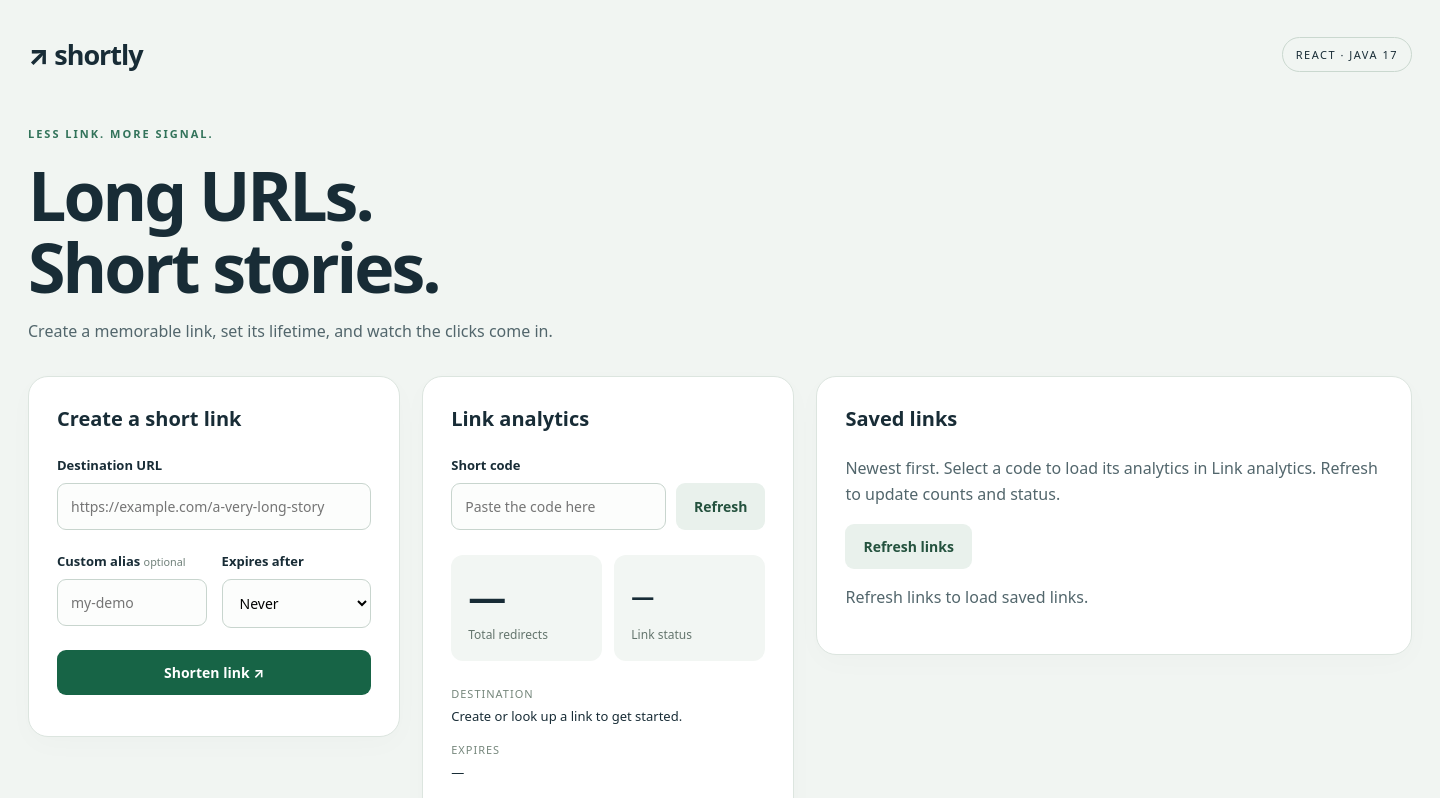
Test: Saved links › loads fresh metadata when selecting and reselecting the same code
The image size is (1440, 798).
Click the button "Refresh links".
click(909, 546)  # box left=845, top=524, right=972, bottom=568
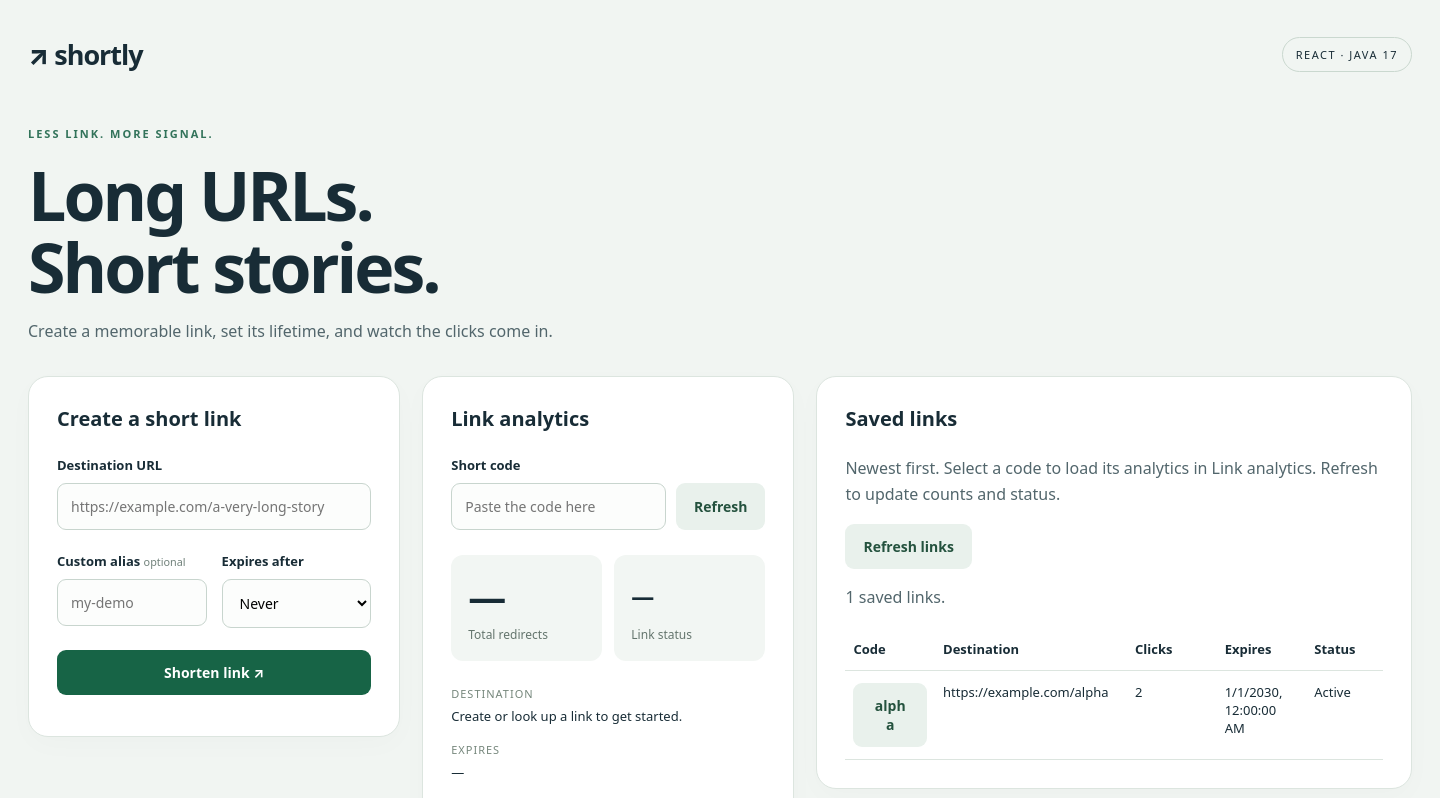
Click the button with aria-label "Inspect alpha".
click(890, 715)  # box left=853, top=683, right=927, bottom=747
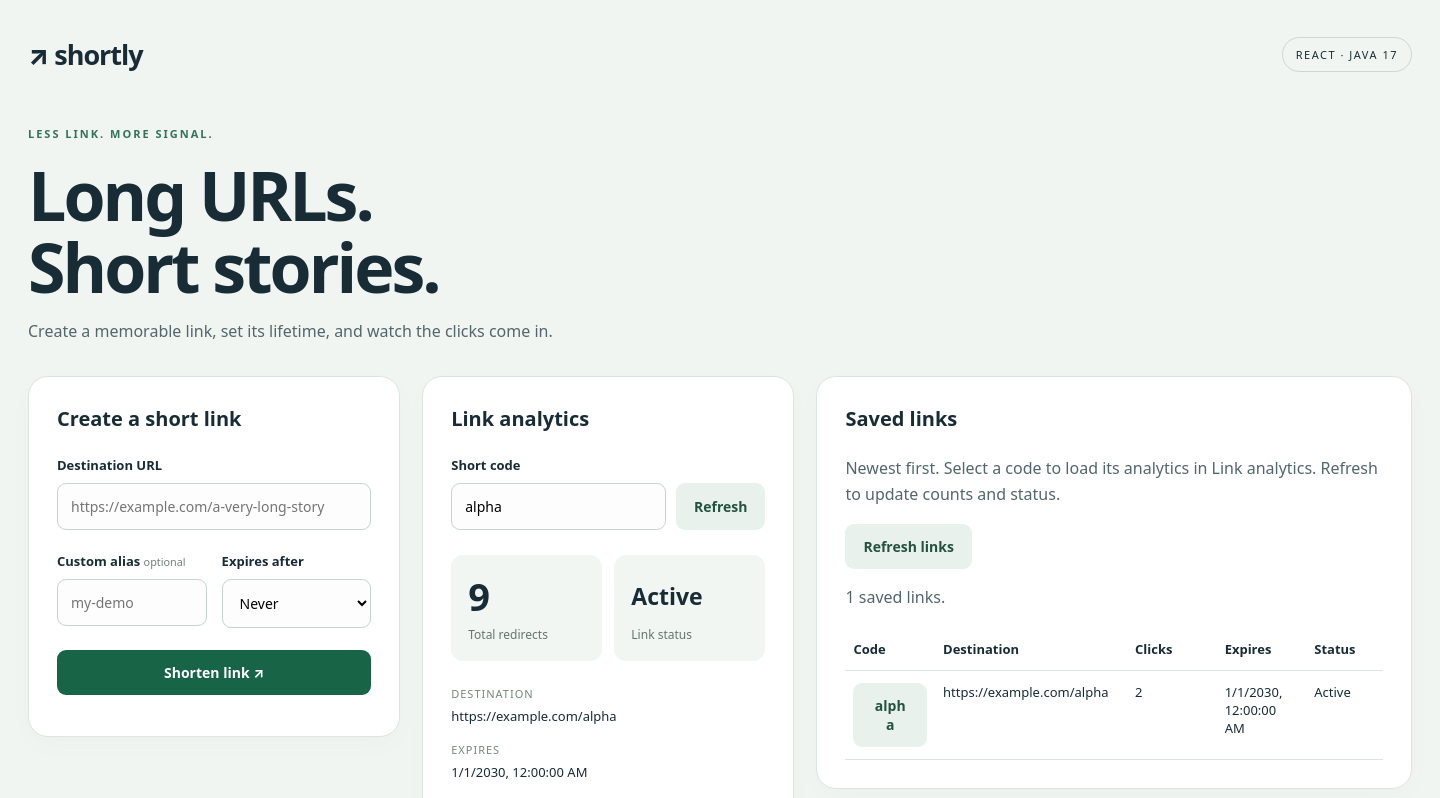
Check: the field labelled "Short code" holds "alpha", box left=451, top=483, right=666, bottom=530
Check: the text "9" is shown, box left=468, top=570, right=490, bottom=622
Click the button with aria-label "Inspect alpha".
click(890, 715)  # box left=853, top=683, right=927, bottom=747
(page scrolled)
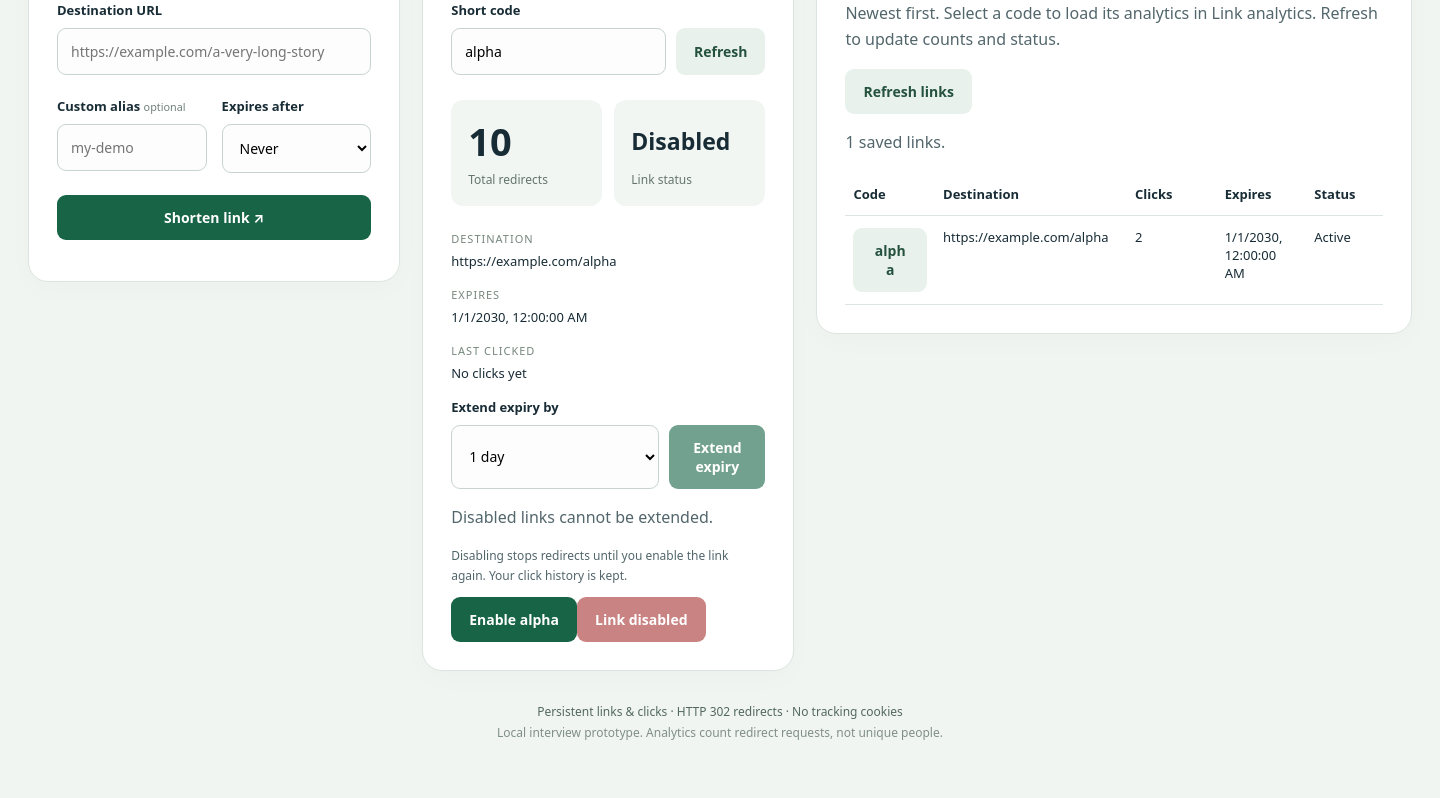
Check: the text "10" is shown, box left=468, top=115, right=512, bottom=167
Check: the button "Link disabled" is disabled, box left=577, top=597, right=706, bottom=642
